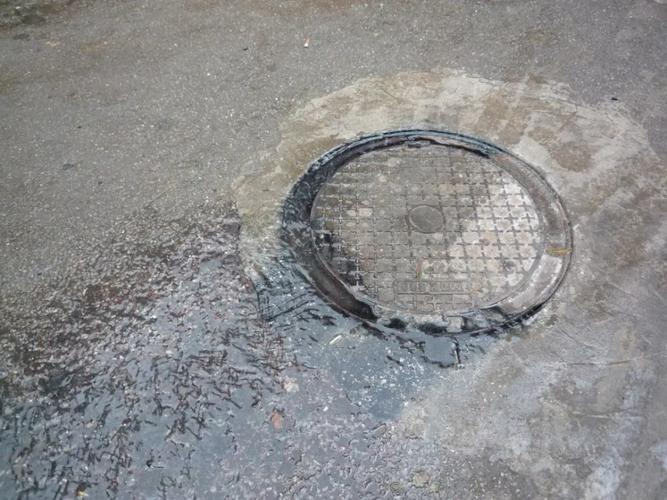circle: (237, 95, 597, 389)
